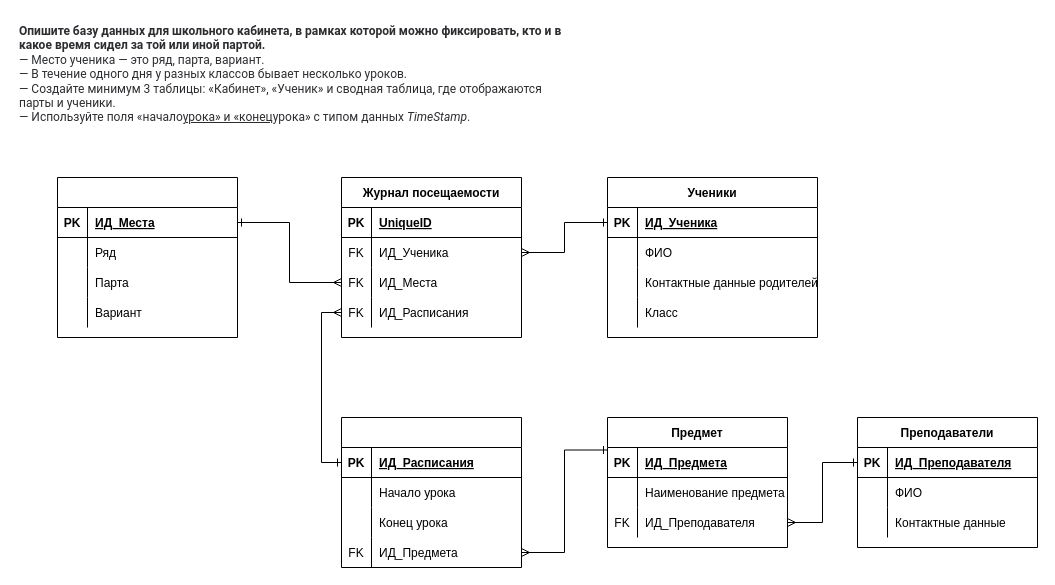
The diagram is 1055 pixels wide and 585 high, and some of its shapes have lost their labels. The box of each missing label's shape, as (x1, y1, x2, y2) in pixels:
Место в кабинете: (56, 176, 238, 338)
Расписание: (340, 416, 522, 568)
